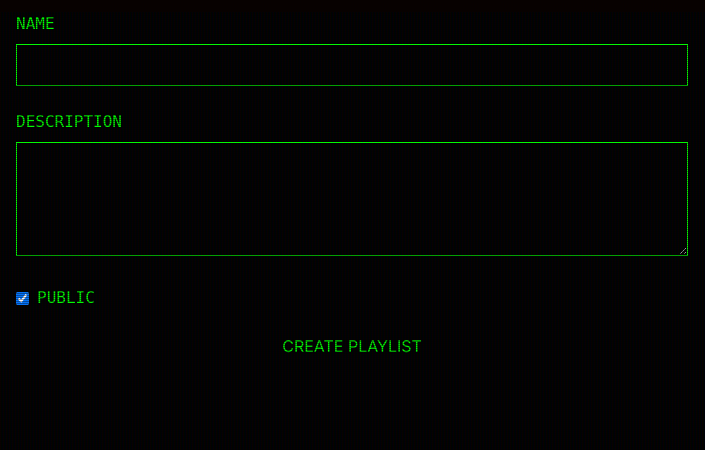
Test: PlaylistForm › handles form submission errors
Type "New Playlist" into the field labelled "NAME" at (352, 65), box [16,44,688,86]
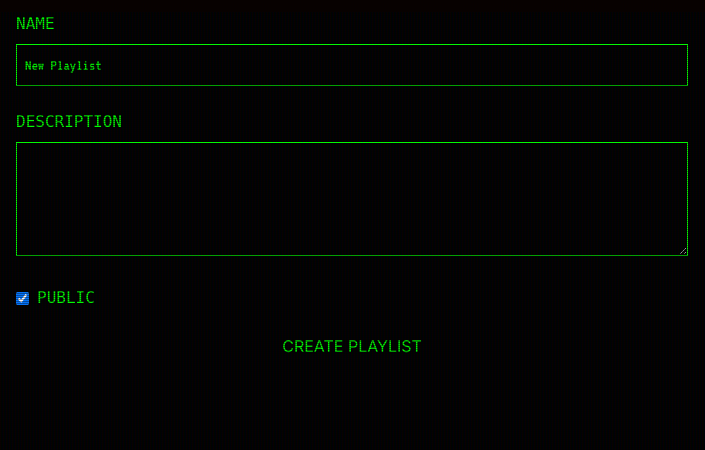
Click the button at (352, 346), box [16,334,688,358]
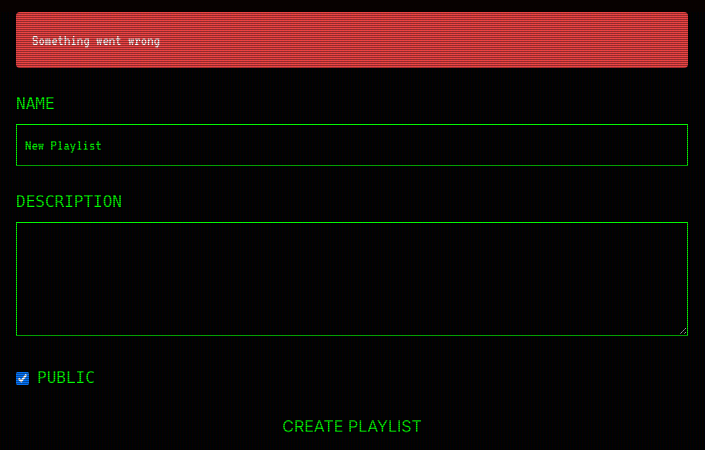
Check: the text "Something went wrong" is shown, box [16,12,688,68]
